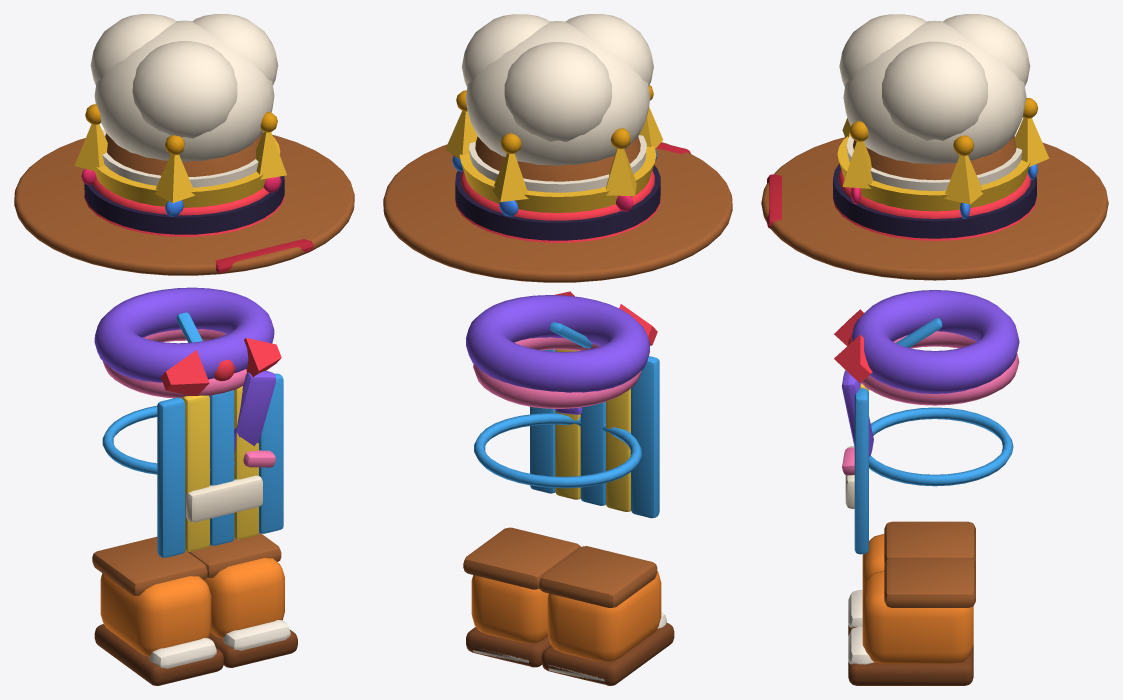
Rendered from cosmetics.glb.
3 views of the same model, side by side, from view 1: azimuth 30°, elevation 25°; view 2: azimuth 150°, elevation 25°; view 3: azimuth 270°, elevation 25° (orthographic). The views are drawn at different scales.
Visible parts, largest first — view 1: cos_hat_cowboy, cos_hat_toque, cos_fit_apron, cos_fit_scarf, cos_shoe_boot_r, cos_shoe_boot_l, cos_hat_crown, cos_fit_bowtie, cos_hat_cap, cos_shoe_sneaker_r, cos_shoe_sneaker_l; view 2: cos_hat_cowboy, cos_hat_toque, cos_fit_scarf, cos_fit_apron, cos_shoe_boot_r, cos_shoe_boot_l, cos_hat_crown, cos_hat_cap; view 3: cos_hat_cowboy, cos_hat_toque, cos_fit_scarf, cos_shoe_boot_l, cos_hat_crown, cos_fit_apron, cos_shoe_boot_r, cos_fit_bowtie, cos_hat_cap, cos_shoe_sneaker_l, cos_shoe_sneaker_r.
Part boxes in pixels (left/top/right/bottom): cos_hat_cowboy: left=14, top=133, right=354, bottom=275; cos_hat_toque: left=90, top=14, right=278, bottom=215; cos_fit_apron: left=102, top=312, right=283, bottom=557; cos_fit_scarf: left=94, top=287, right=275, bottom=467; cos_shoe_boot_r: left=92, top=536, right=223, bottom=685; cos_shoe_boot_l: left=188, top=533, right=297, bottom=667; cos_hat_crown: left=74, top=104, right=286, bottom=216; cos_fit_bowtie: left=160, top=338, right=281, bottom=395; cos_hat_cap: left=84, top=194, right=313, bottom=272; cos_shoe_sneaker_r: left=149, top=638, right=216, bottom=668; cos_shoe_sneaker_l: left=223, top=620, right=290, bottom=650; cos_hat_cowboy: left=383, top=136, right=732, bottom=282; cos_hat_toque: left=461, top=14, right=654, bottom=220; cos_fit_scarf: left=466, top=295, right=649, bottom=414; cos_fit_apron: left=474, top=322, right=659, bottom=518; cos_shoe_boot_r: left=539, top=546, right=674, bottom=685; cos_shoe_boot_l: left=463, top=527, right=580, bottom=667; cos_hat_crown: left=445, top=85, right=662, bottom=216; cos_hat_cap: left=455, top=143, right=690, bottom=242; cos_hat_cowboy: left=761, top=135, right=1108, bottom=280; cos_hat_toque: left=838, top=14, right=1030, bottom=218; cos_fit_scarf: left=841, top=290, right=1019, bottom=475; cos_shoe_boot_l: left=848, top=558, right=975, bottom=685; cos_hat_crown: left=837, top=98, right=1049, bottom=218; cos_fit_apron: left=845, top=318, right=1013, bottom=554; cos_shoe_boot_r: left=848, top=521, right=975, bottom=635; cos_fit_bowtie: left=834, top=309, right=872, bottom=383; cos_hat_cap: left=767, top=174, right=1036, bottom=240; cos_shoe_sneaker_l: left=848, top=626, right=873, bottom=664; cos_shoe_sneaker_r: left=848, top=590, right=862, bottom=627.
Size of the model in its own units: 0.72 by 1.43 by 0.72.
